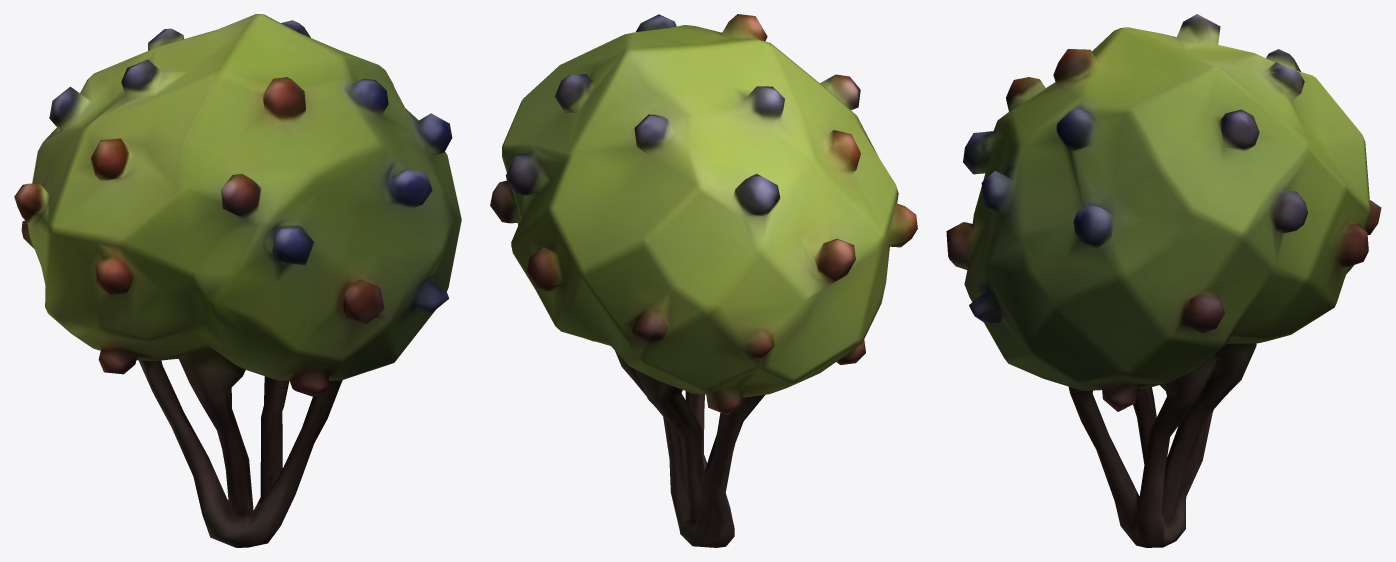
The model's file is BerryTree.glb.
3 views of the same model, side by side, from view 1: azimuth 30°, elevation 25°; view 2: azimuth 150°, elevation 25°; view 3: azimuth 270°, elevation 25° (orthographic).
Parts seen in each view (by area): view 1: tripo_node_098571b7-dac7-44e7-aa43-926c2d7e25d5; view 2: tripo_node_098571b7-dac7-44e7-aa43-926c2d7e25d5; view 3: tripo_node_098571b7-dac7-44e7-aa43-926c2d7e25d5.
Part boxes in pixels (bbox=[...]): tripo_node_098571b7-dac7-44e7-aa43-926c2d7e25d5: bbox=[14, 14, 461, 547]; tripo_node_098571b7-dac7-44e7-aa43-926c2d7e25d5: bbox=[490, 14, 917, 547]; tripo_node_098571b7-dac7-44e7-aa43-926c2d7e25d5: bbox=[946, 14, 1381, 547].
Bounding box in the file's own units: 0.7777 × 0.9787 × 0.7789.
1 material, 1 textured.
